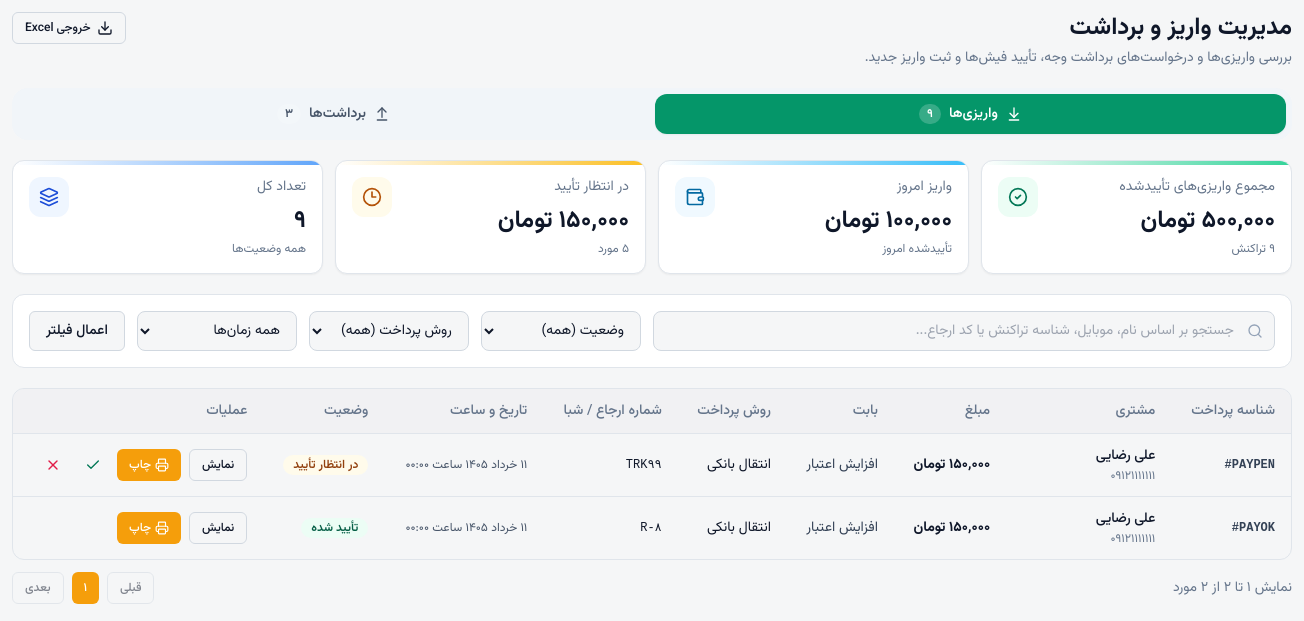
Test case: PaymentsManagementPage › switches to the withdrawals tab and loads withdrawal rows
Click the button "برداشت‌ها ۳".
click(334, 114)  # box [18,94,649,134]
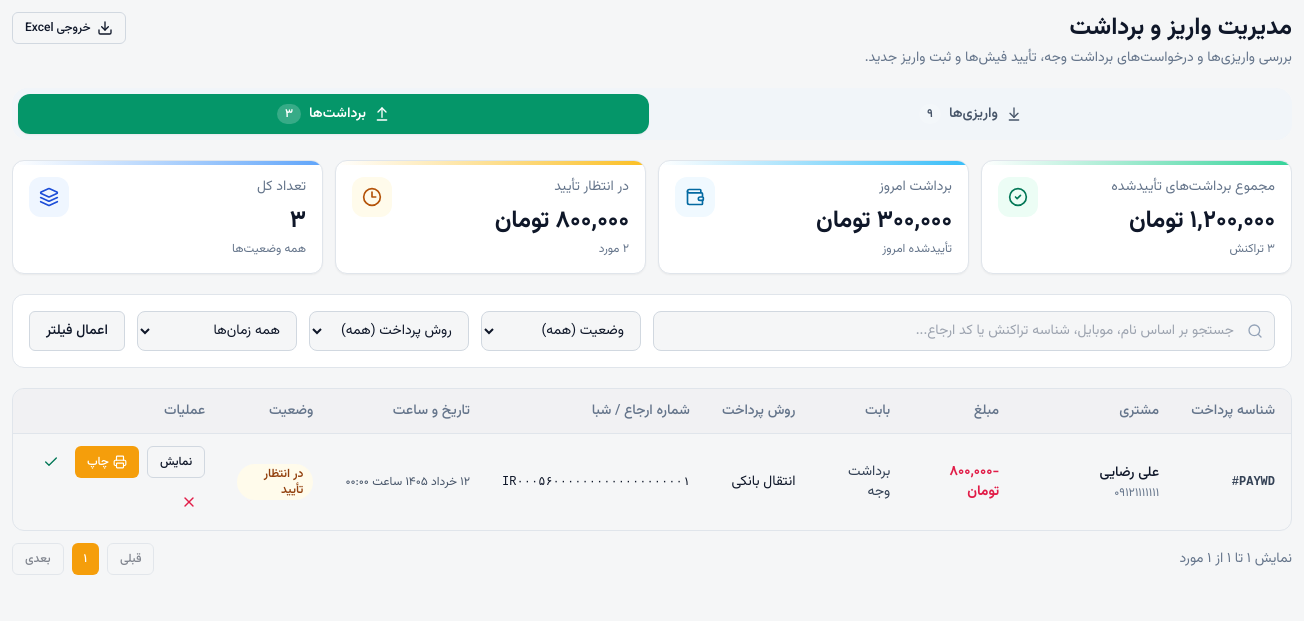
Result: the button named "تأیید برداشت" is shown at [35,446,67,478]
Result: the button named "رد برداشت" is shown at [173,486,205,518]
